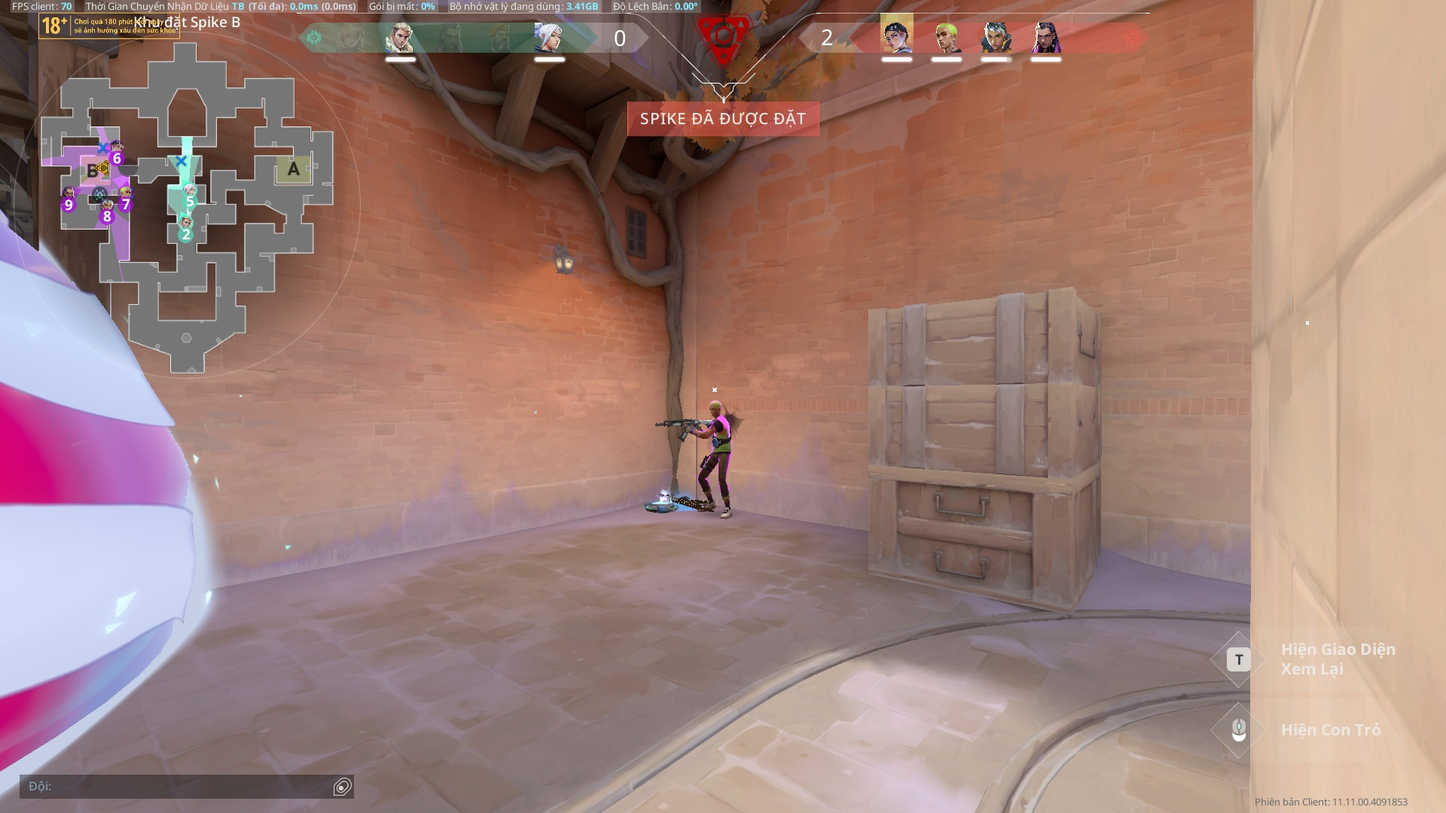body: (709, 414, 733, 454)
head: (707, 398, 723, 416)
